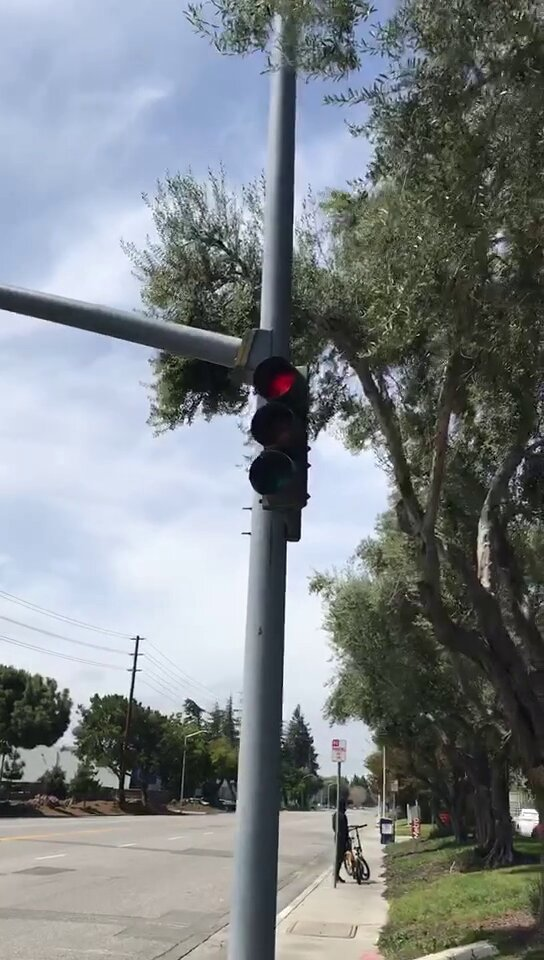red_light: (253, 358, 300, 502)
